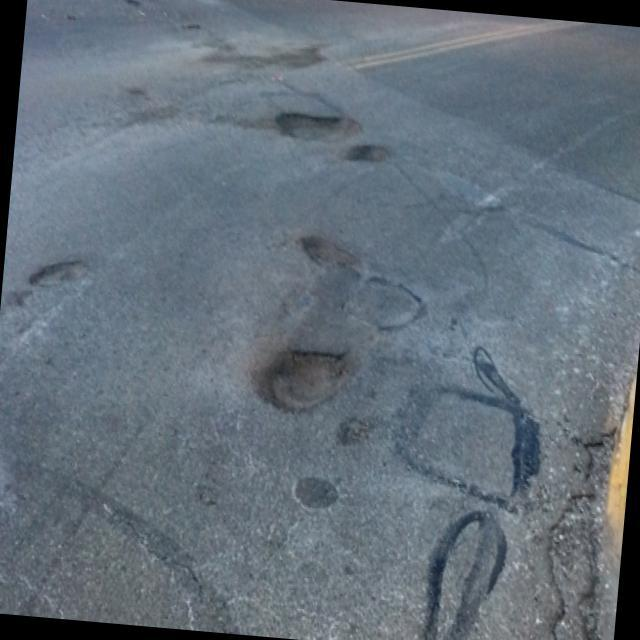Pothole: (16, 236, 132, 318), (248, 317, 364, 393), (288, 214, 378, 278), (270, 104, 368, 142), (337, 128, 404, 160), (124, 66, 160, 118), (178, 0, 222, 26), (113, 0, 159, 19)
